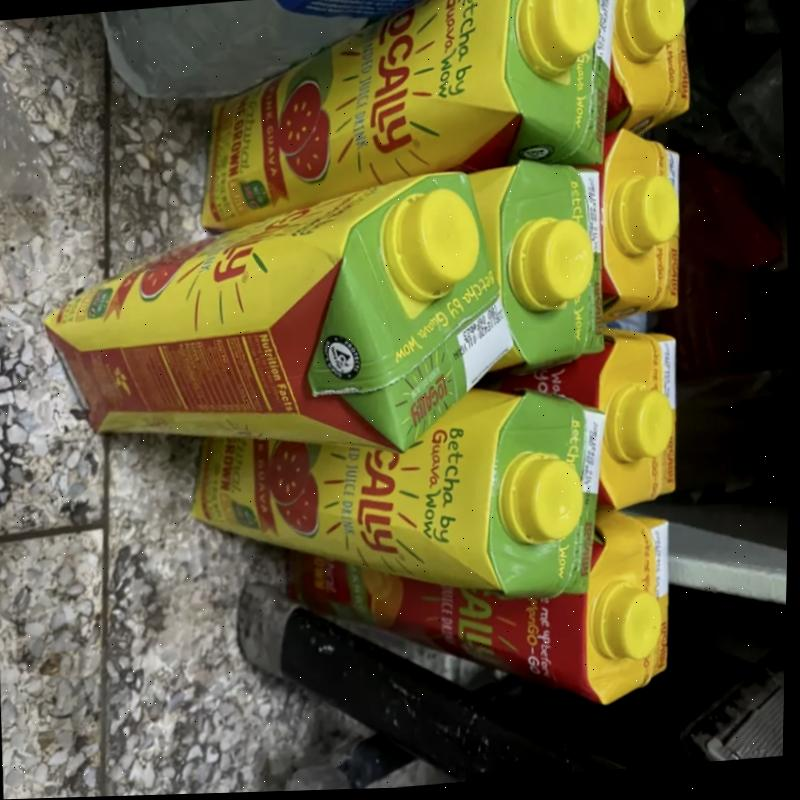uht carton: (39, 170, 511, 454), (197, 0, 609, 232), (187, 388, 604, 601), (284, 505, 668, 706), (483, 333, 673, 511), (468, 160, 603, 371), (593, 128, 678, 327), (599, 0, 690, 146)
